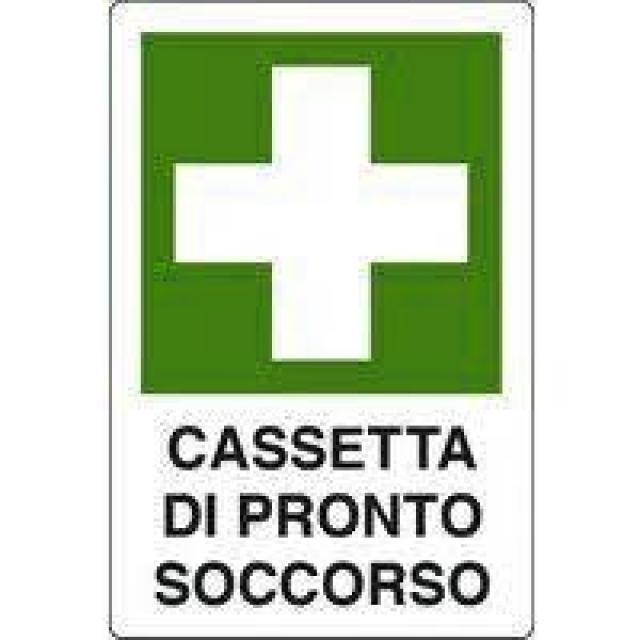first-aid: (140, 32, 500, 386)
